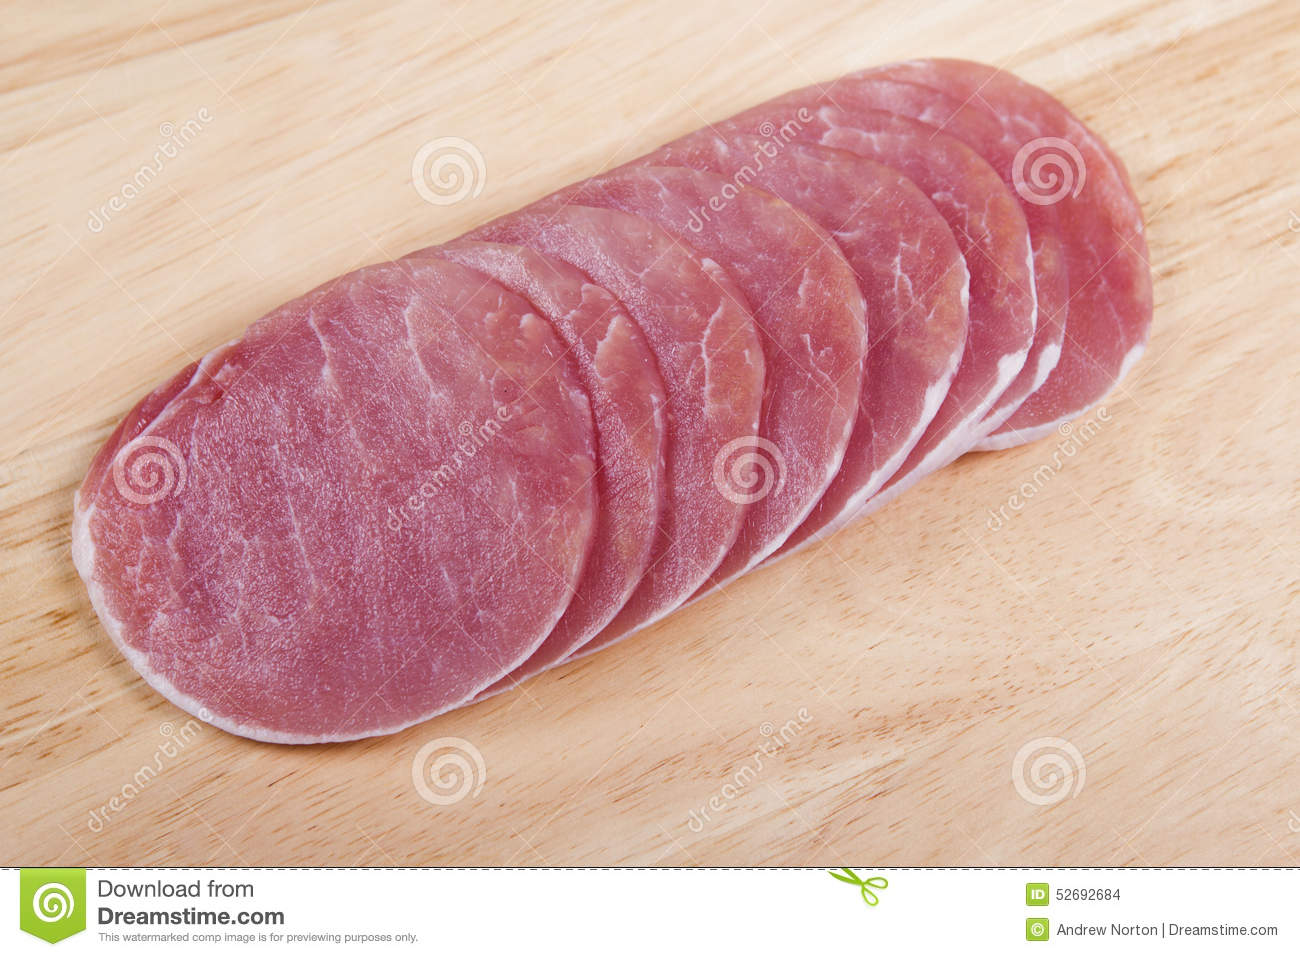bacon: (55, 28, 1186, 797)
